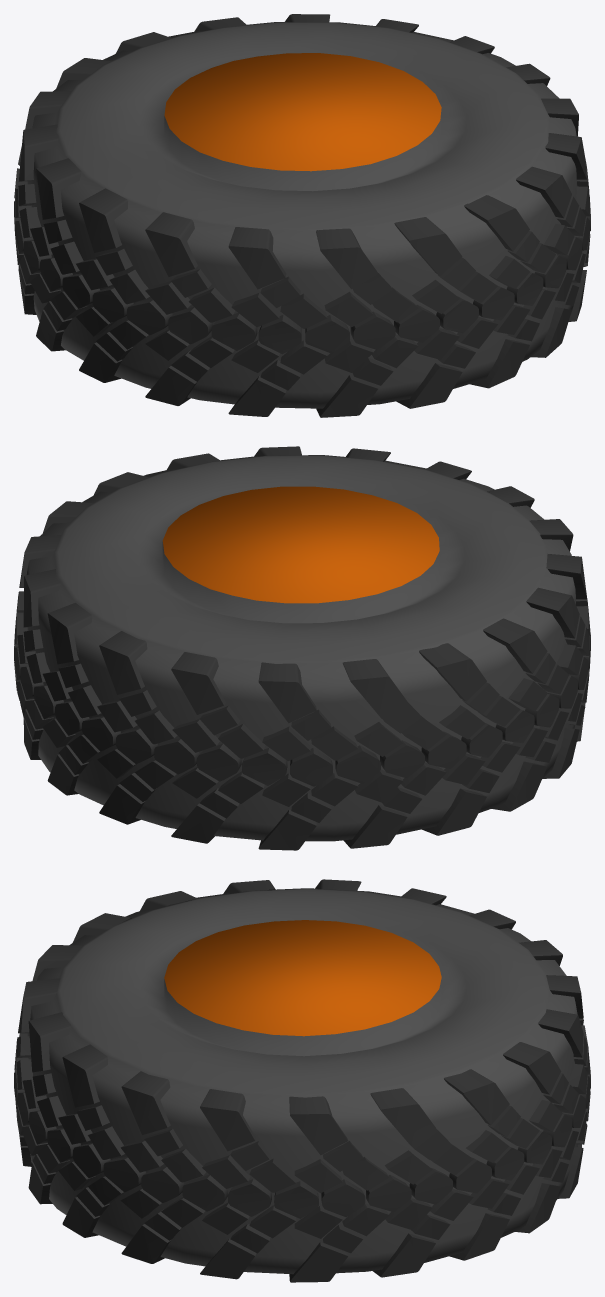
The model's file is rover_wheel.dae.
3 renders of one model, top to bottom at view 1: azimuth 30°, elevation 25°; view 2: azimuth 150°, elevation 25°; view 3: azimuth 270°, elevation 25°, orthographic.
Visible parts, largest first — view 1: Plane.042; view 2: Plane.042; view 3: Plane.042.
Part boxes in pixels (x1,y1,x2,y2): Plane.042: (14,14,590,417); Plane.042: (14,446,590,850); Plane.042: (14,879,590,1282).
Size of the model in its own units: 0.1727 by 0.1728 by 0.0669.
